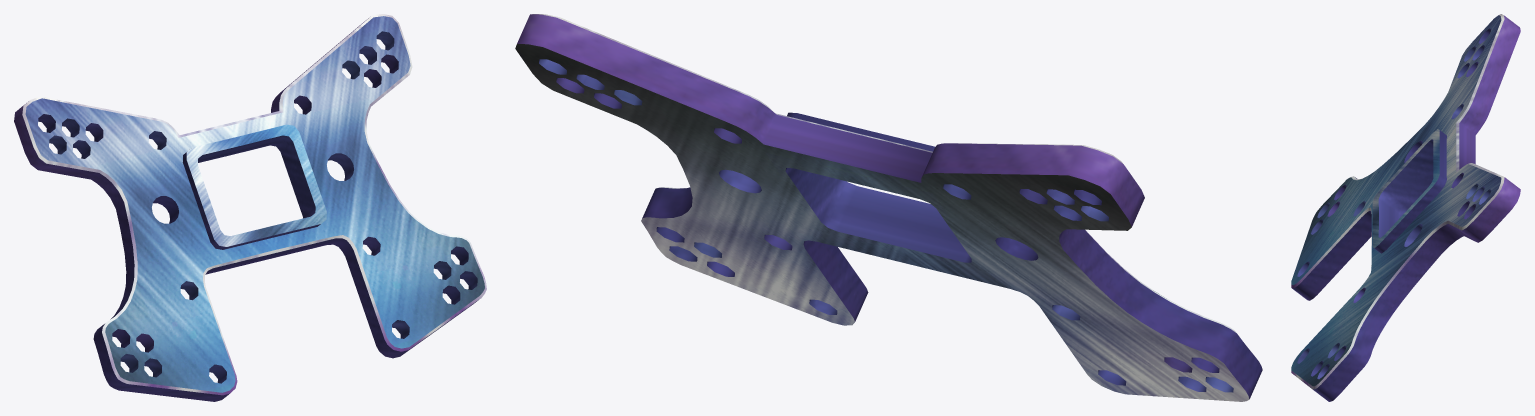
File: bodyholder03.FBX
3 renders of one model, left to right at view 1: azimuth 30°, elevation 25°; view 2: azimuth 150°, elevation 25°; view 3: azimuth 270°, elevation 25°, orthographic. The views are drawn at different scales.
Visible parts, largest first — view 1: bodyholder03; view 2: bodyholder03; view 3: bodyholder03.
Boxes of the visible parts, box(x1,y1,x2,y2) form: bodyholder03: box(14, 14, 486, 401); bodyholder03: box(515, 14, 1262, 401); bodyholder03: box(1291, 14, 1520, 401).
Bounding box in the file's own units: 0.4962 × 0.3138 × 0.2689.
